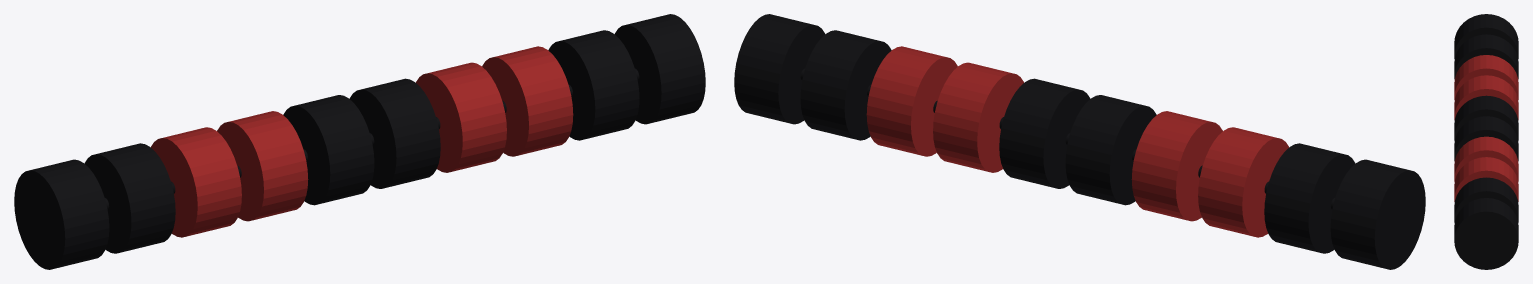
File: buoy_chain.fbx
3 views of the same model, side by side, from view 1: azimuth 30°, elevation 25°; view 2: azimuth 150°, elevation 25°; view 3: azimuth 270°, elevation 25° (orthographic). The views are drawn at different scales.
Parts seen in each view (by area): view 1: Cyl_black1, Cyl_red1.002, Cyl_red1, Cyl_red1.003, Cyl_black1.001, Cyl_black1.002, Cyl_black1.004, Cyl_red1.001, Cyl_black1.003, Cyl_black1.005; view 2: Cyl_black1, Cyl_red1.002, Cyl_red1, Cyl_black1.001, Cyl_red1.003, Cyl_black1.002, Cyl_black1.004, Cyl_red1.001, Cyl_black1.003, Cyl_black1.005; view 3: Cyl_black1.005, Cyl_black1.002, Cyl_black1.004, Cyl_red1.002, Cyl_red1.001, Cyl_black1, Cyl_black1.001, Cyl_red1, Cyl_black1.003, Cyl_red1.003.
Boxes of the visible parts, x1,y1,x2,y2 form: Cyl_black1: [14, 159, 109, 269]; Cyl_red1.002: [416, 62, 506, 172]; Cyl_red1: [151, 127, 241, 237]; Cyl_red1.003: [482, 46, 573, 156]; Cyl_black1.001: [84, 143, 175, 253]; Cyl_black1.002: [283, 95, 374, 205]; Cyl_black1.004: [548, 30, 639, 140]; Cyl_red1.001: [217, 111, 308, 221]; Cyl_black1.003: [349, 78, 440, 188]; Cyl_black1.005: [614, 14, 705, 124]; Cyl_black1: [1330, 159, 1425, 269]; Cyl_red1.002: [933, 62, 1023, 172]; Cyl_red1: [1198, 127, 1288, 237]; Cyl_black1.001: [1264, 143, 1355, 253]; Cyl_red1.003: [866, 46, 957, 156]; Cyl_black1.002: [1065, 95, 1156, 205]; Cyl_black1.004: [800, 30, 891, 140]; Cyl_red1.001: [1131, 111, 1222, 221]; Cyl_black1.003: [999, 78, 1090, 188]; Cyl_black1.005: [734, 14, 825, 124]; Cyl_black1.005: [1454, 198, 1518, 269]; Cyl_black1.002: [1454, 95, 1518, 140]; Cyl_black1.004: [1454, 177, 1518, 222]; Cyl_red1.002: [1454, 136, 1518, 181]; Cyl_red1.001: [1454, 75, 1518, 119]; Cyl_black1: [1454, 14, 1518, 58]; Cyl_black1.001: [1454, 34, 1518, 78]; Cyl_red1: [1454, 55, 1518, 99]; Cyl_black1.003: [1454, 116, 1518, 160]; Cyl_red1.003: [1454, 157, 1518, 201].
Size of the model in its own units: 290 by 40 by 40.
Materials: 2 (2 with a texture image).
